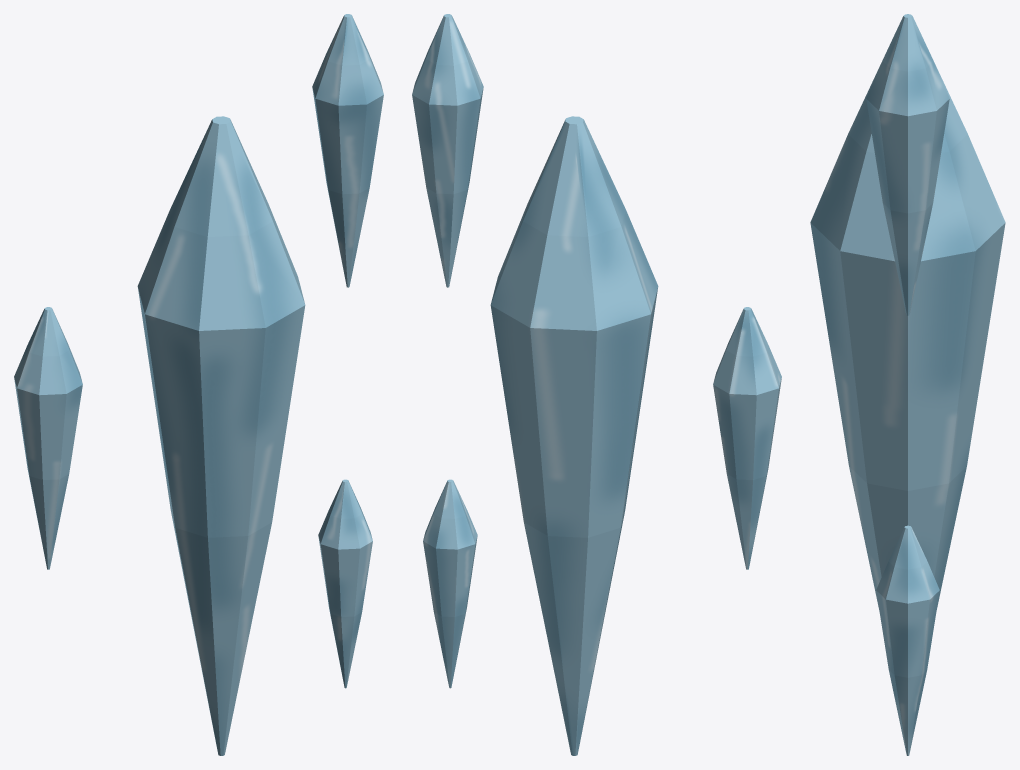
File: Item_Icicle.fbx
3 views of the same model, side by side, from view 1: azimuth 30°, elevation 25°; view 2: azimuth 150°, elevation 25°; view 3: azimuth 270°, elevation 25° (orthographic). The views are drawn at different scales.
Parts seen in each view (by area): view 1: pCube5; view 2: pCube5; view 3: pCube5.
Part boxes in pixels (bbox=[...]): pCube5: bbox=[14, 14, 383, 755]; pCube5: bbox=[412, 14, 781, 755]; pCube5: bbox=[810, 14, 1005, 755].
Size of the model in its own units: 0.4987 by 0.9271 by 0.21.
1 material, 1 textured.
